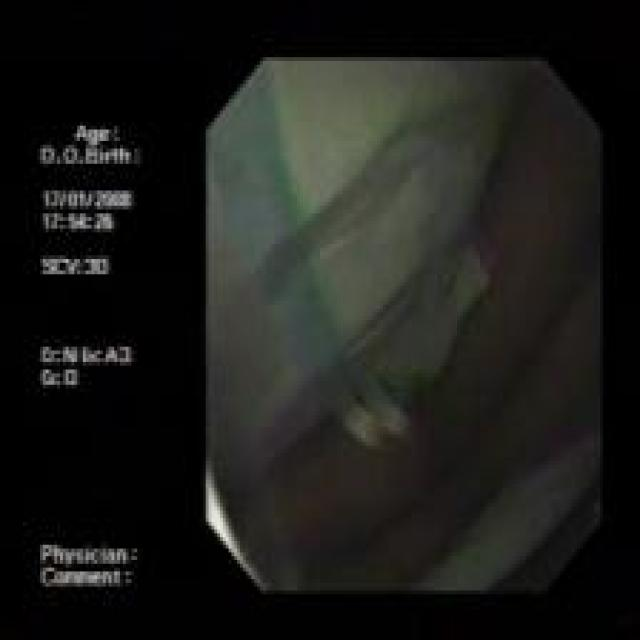color misalignment: (207, 57, 603, 591), (37, 112, 150, 593)
